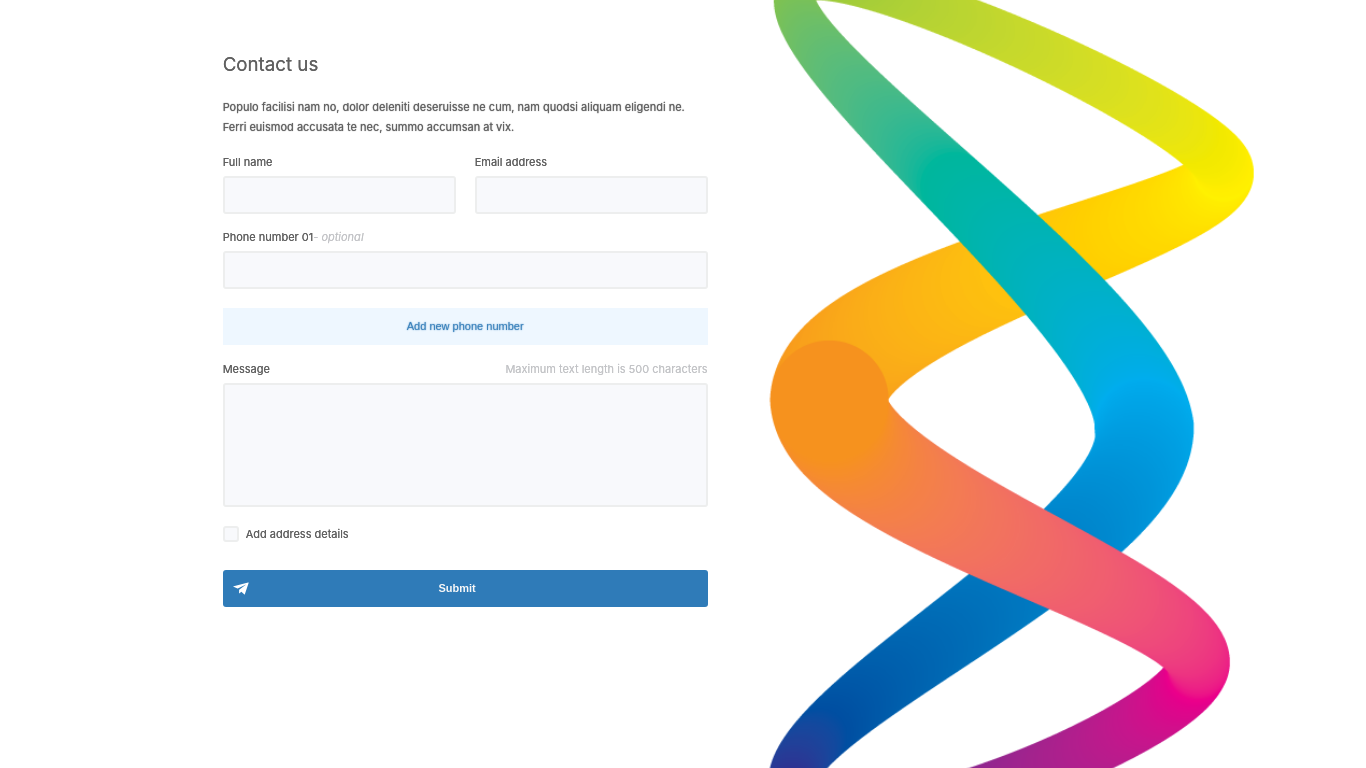
ContactUs › Addresses › clicking the checkbox should render the container
What coordinates should you click on to do the following:
click the checkbox with id "bIncludeAddressDetails"
I would click on:
 (286, 534)
Its box is [223,526,349,542].
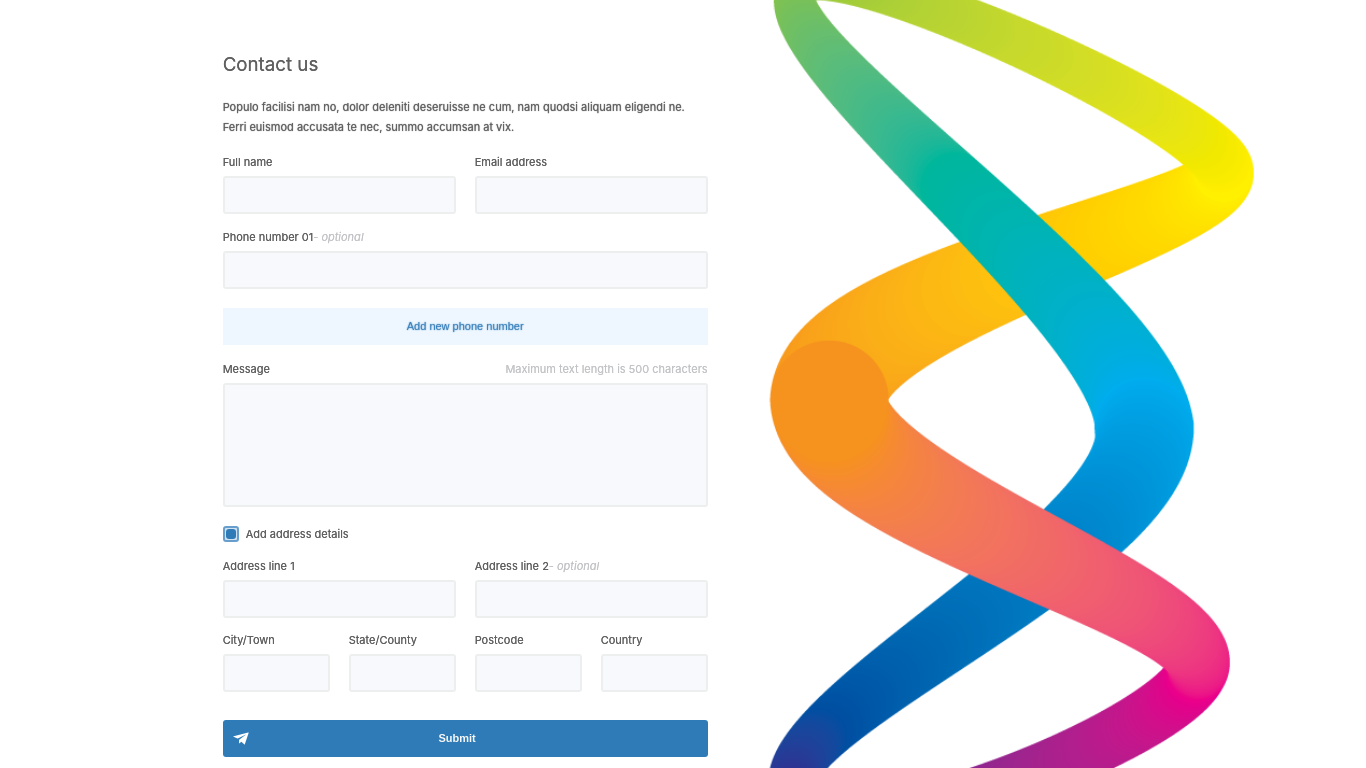
Expected: the number of elements with class "address-container" is 1, [223,552,708,700]
